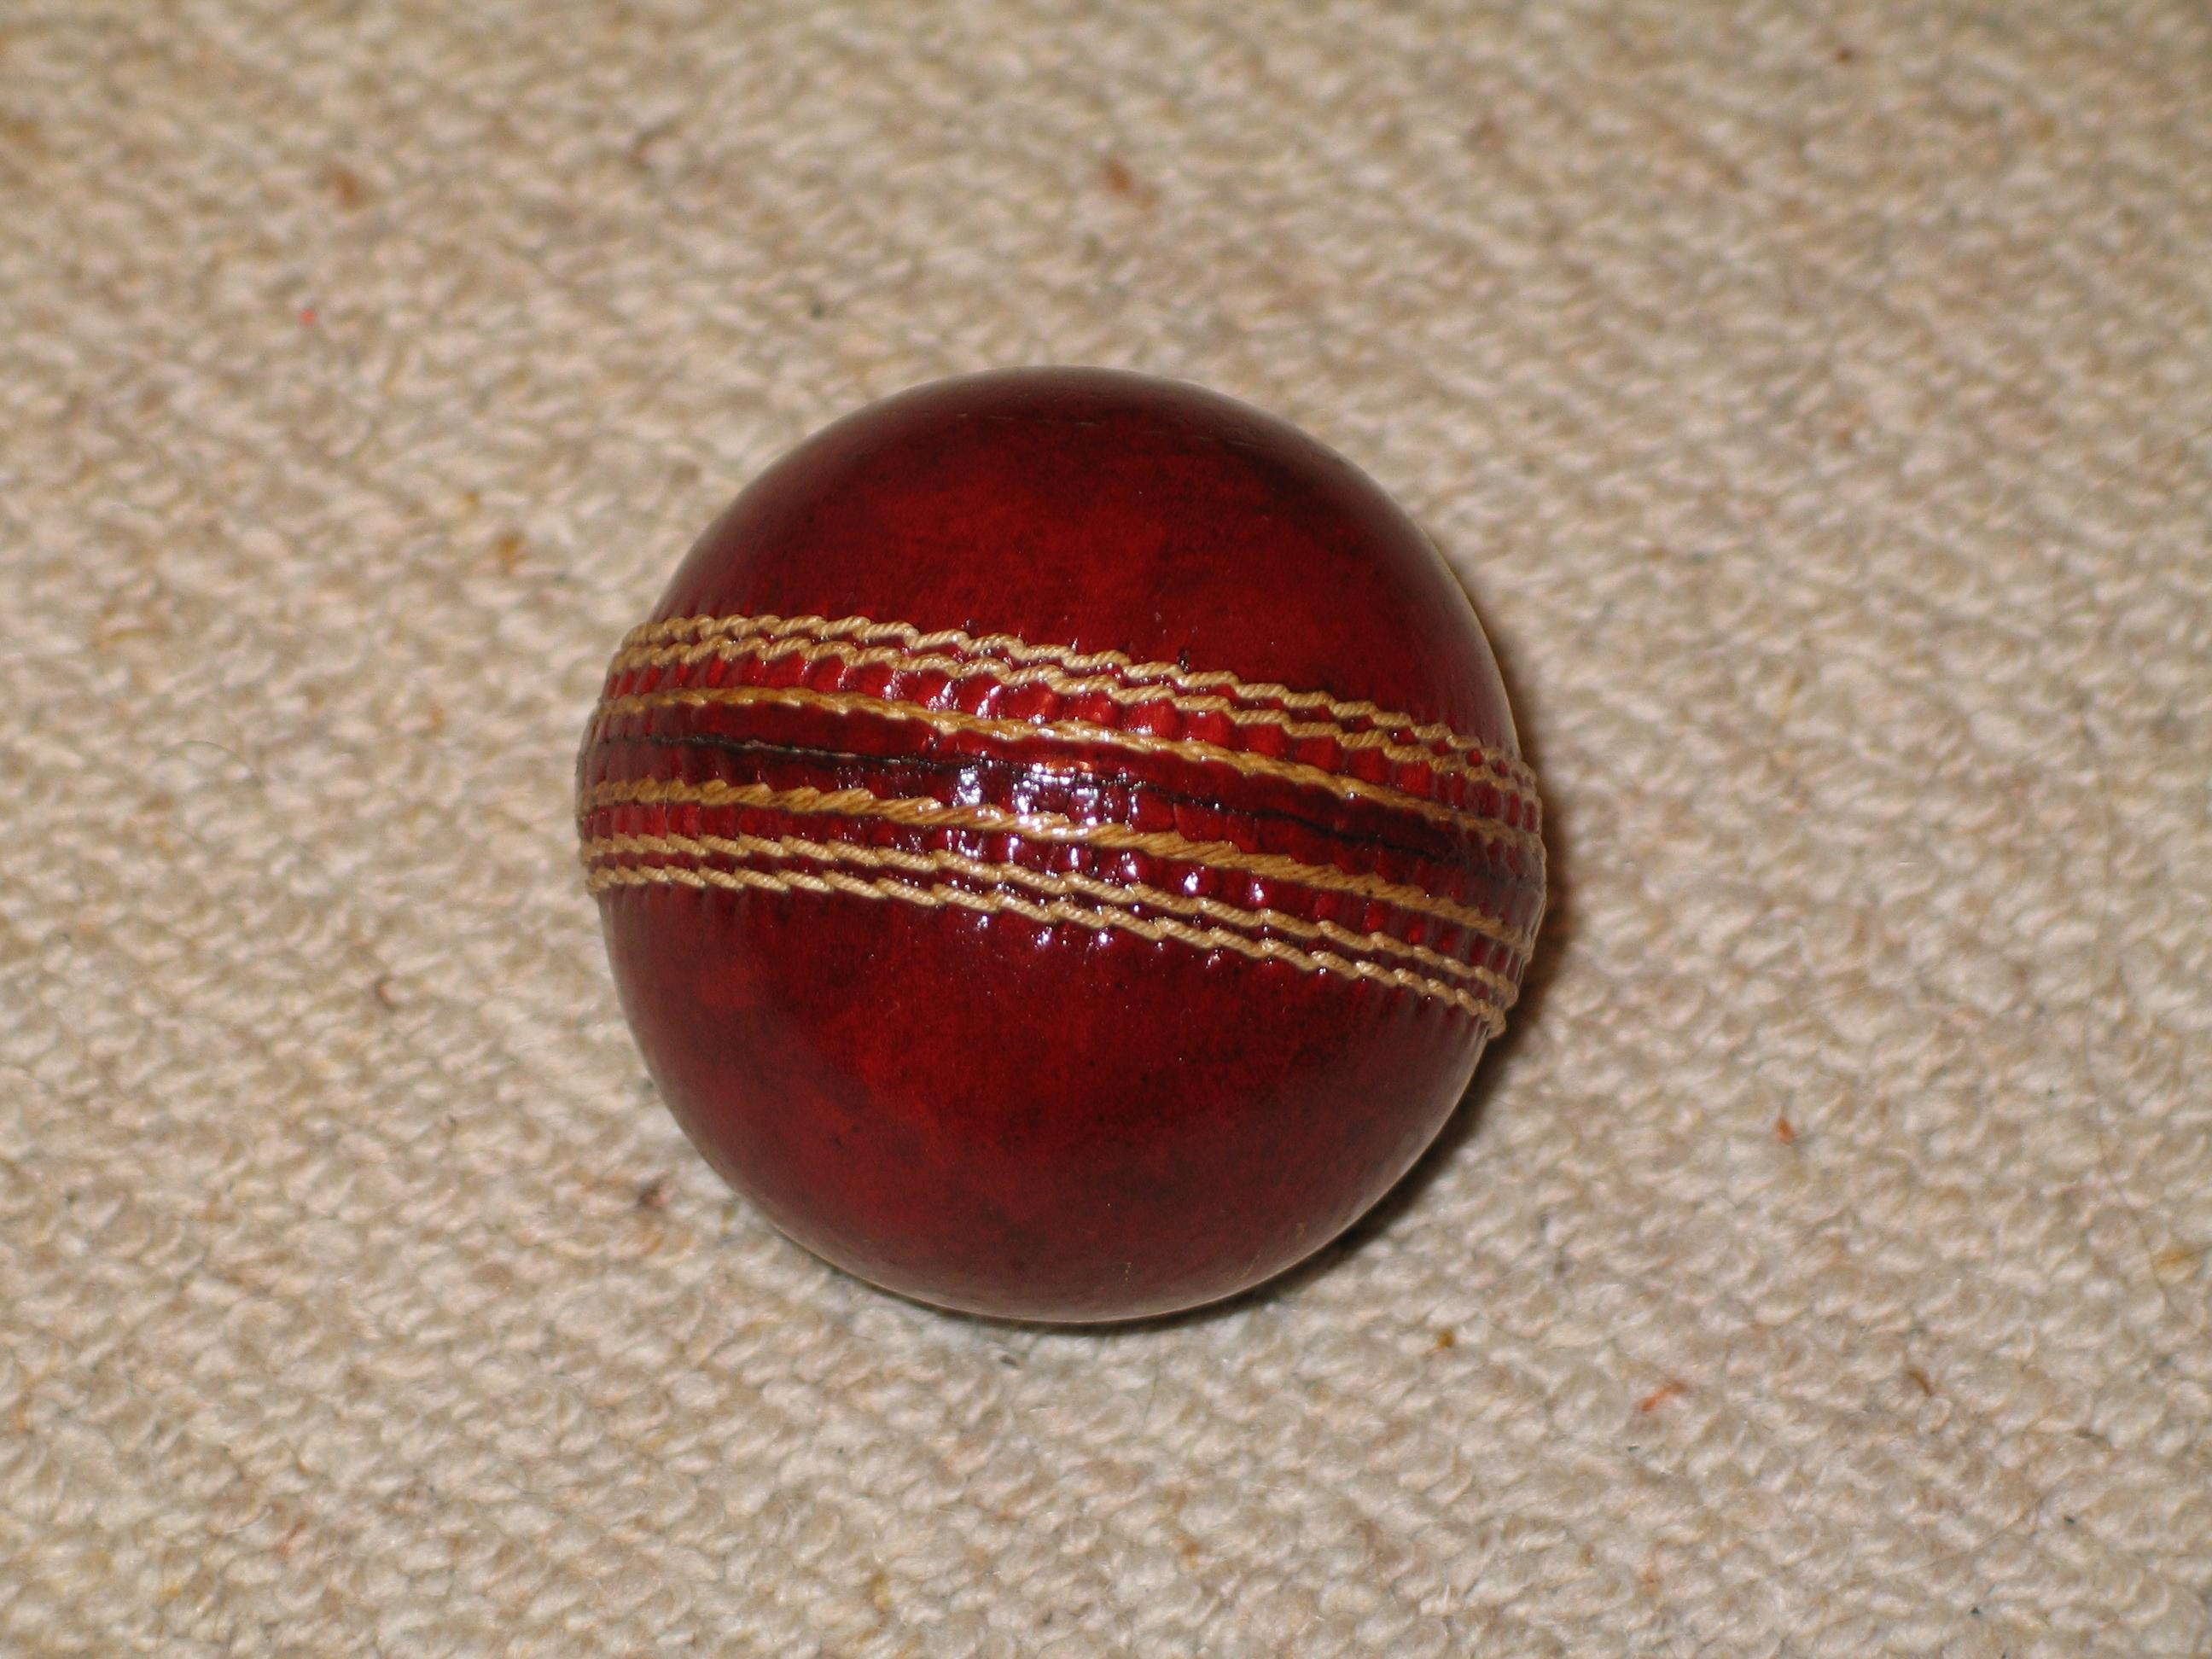Red_Ball: (529, 345, 1590, 1389)
